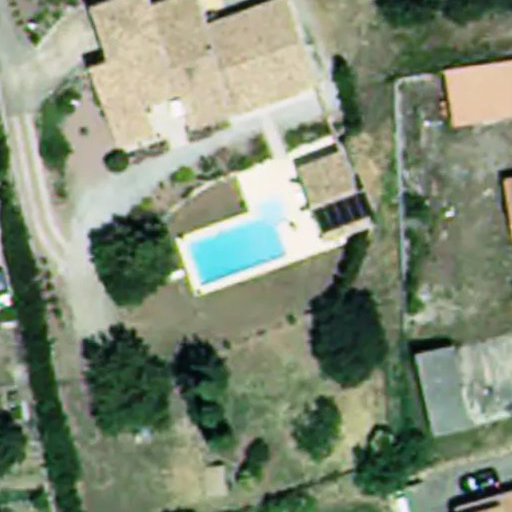pool: (195, 229, 323, 253)
